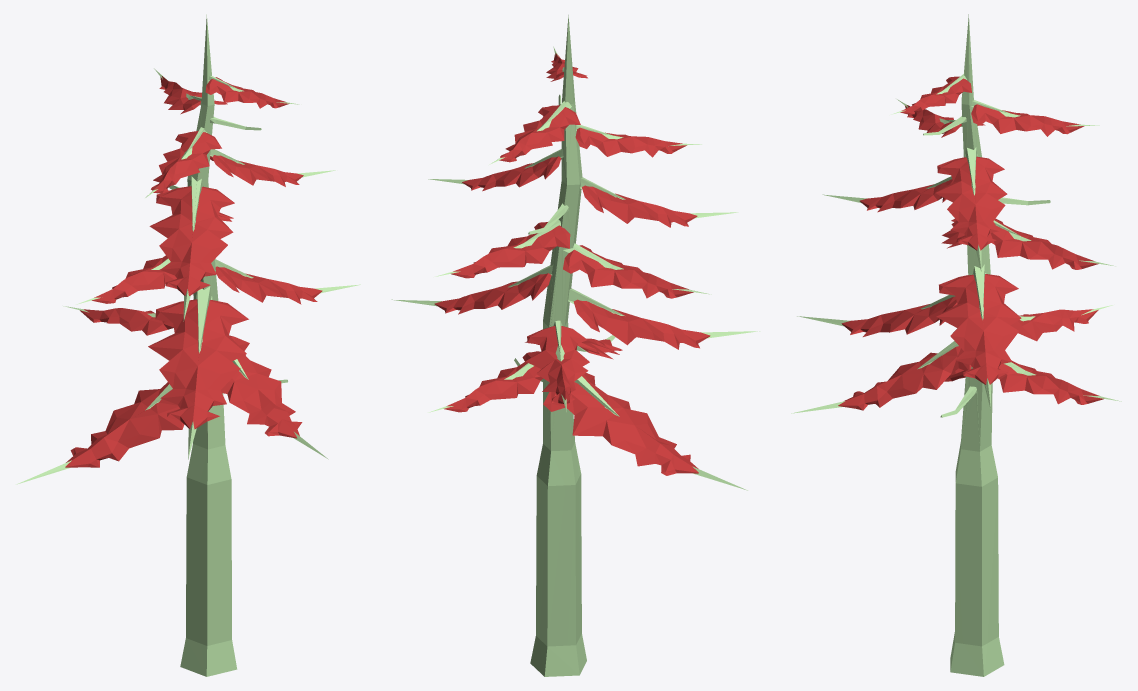
The model's file is mars_tree02_top.obj.
The picture shows the model from 3 angles, left to right: view 1: azimuth 30°, elevation 25°; view 2: azimuth 150°, elevation 25°; view 3: azimuth 270°, elevation 25°; orthographic projection.
Visible parts, largest first — view 1: Object.1; view 2: Object.1; view 3: Object.1.
Boxes of the visible parts, left/top/right/bottom form: Object.1: left=16, top=14, right=360, bottom=676; Object.1: left=391, top=15, right=760, bottom=676; Object.1: left=791, top=14, right=1121, bottom=676.
Size of the model in its own units: 42.32 by 74.72 by 34.9.
